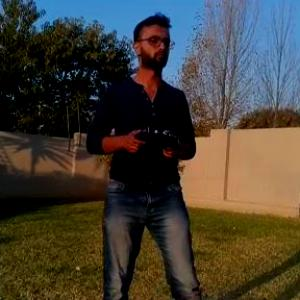follow: (81, 10, 206, 299)
